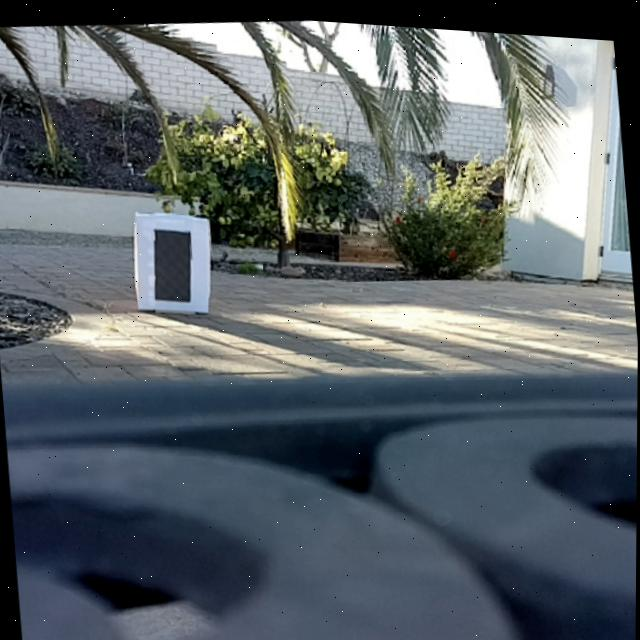led: (148, 221, 197, 305)
